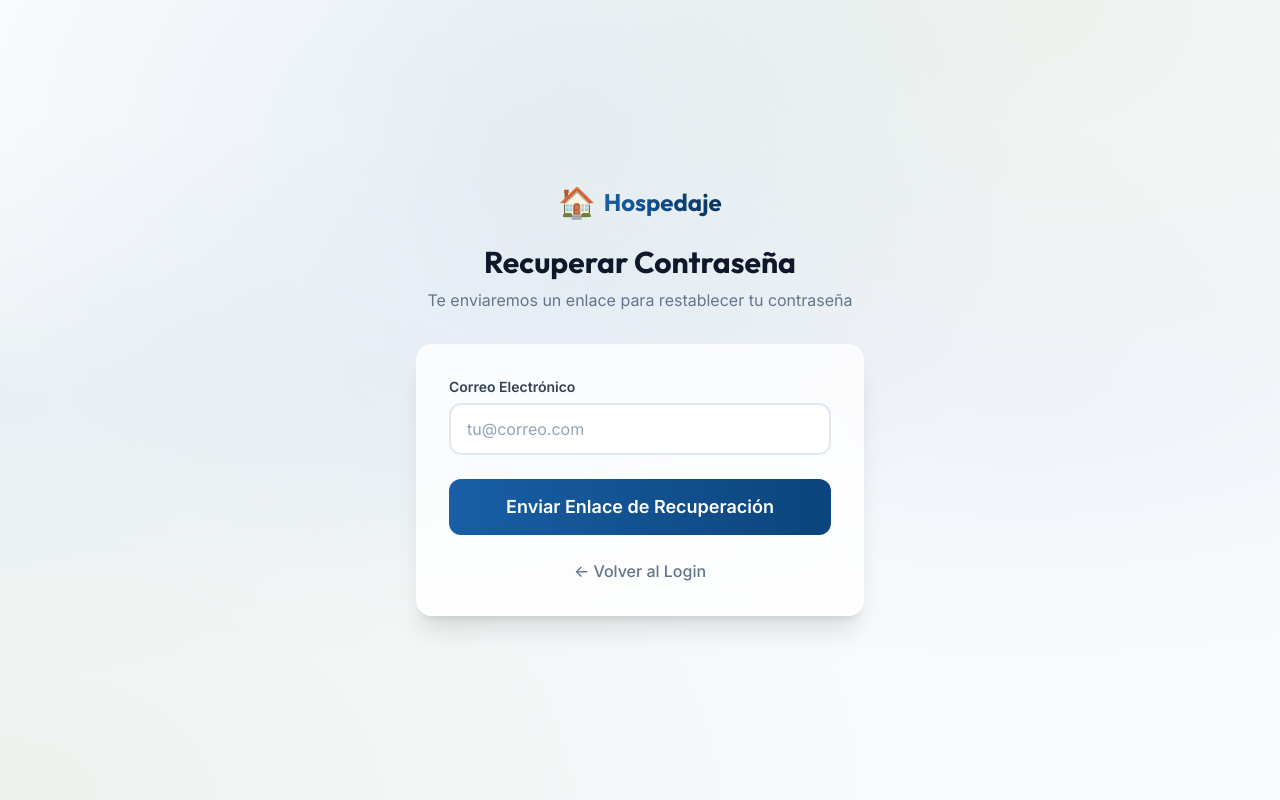
Test: Página de Recuperación de Contraseña › muestra éxito después del envío
Type "test@test.com" into the field labelled "Correo Electrónico" at (640, 429), box [449,403,831,455]
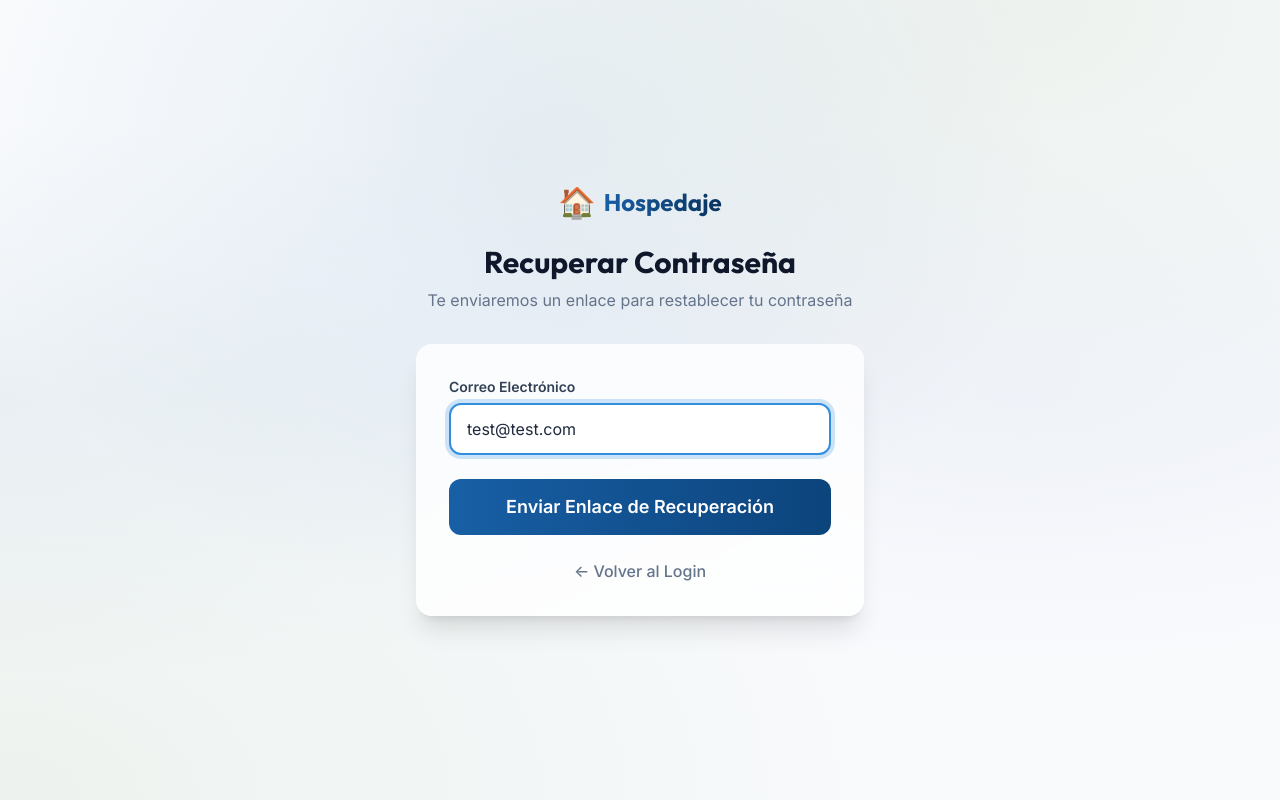
Click the button "Enviar Enlace de Recuperación" at (640, 507), box [449,479,831,535]
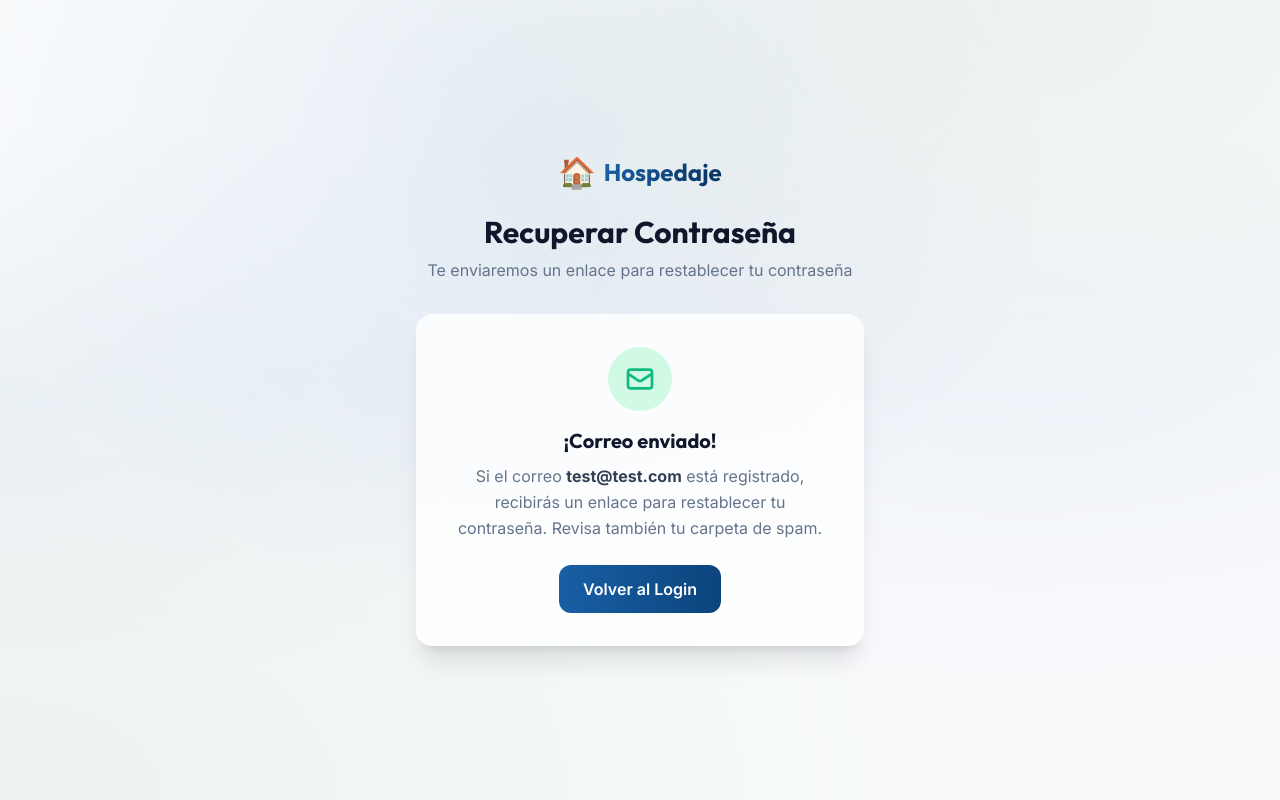
Check: the heading "¡Correo enviado!" is shown, box [563,428,717,453]
